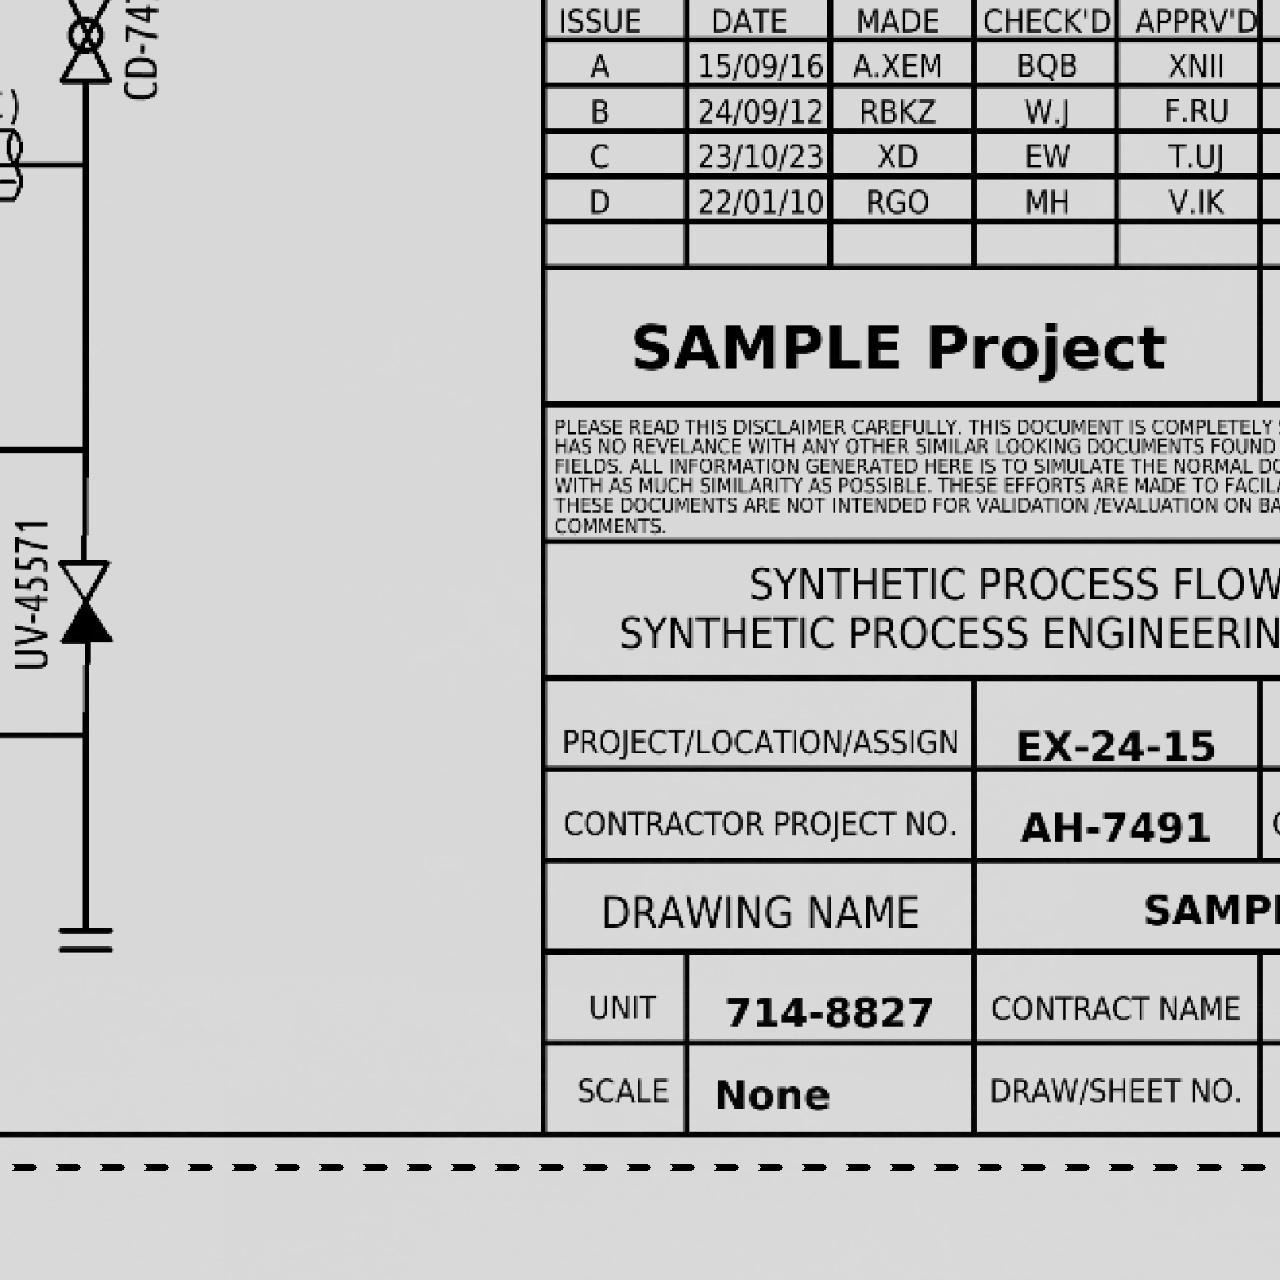Half closed valve: (53, 554, 116, 647)
